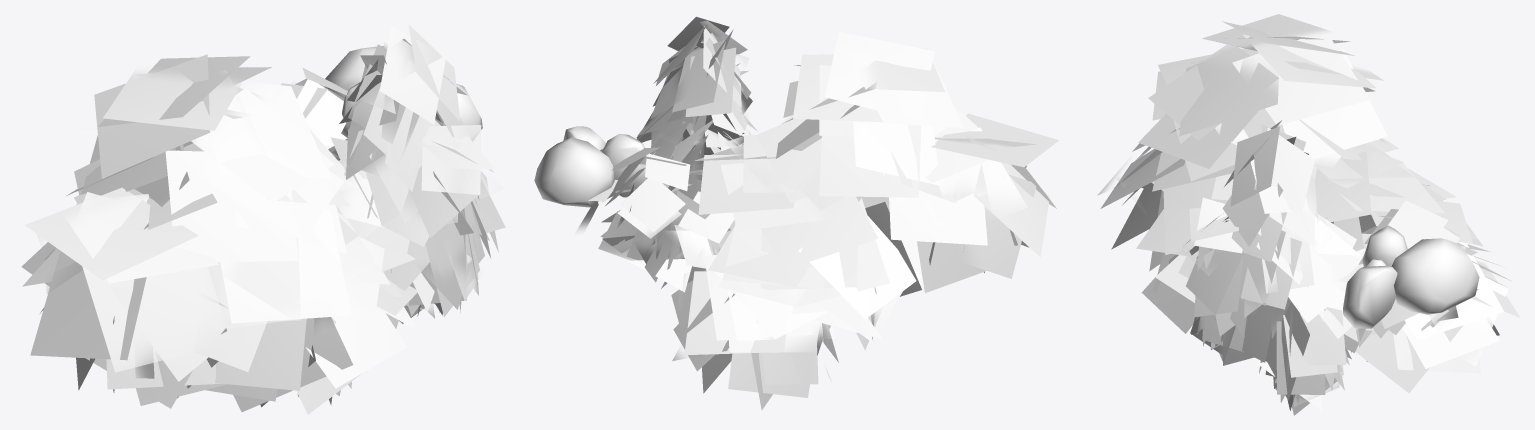
File: ArenaModificadoMesh.glb
3 views of the same model, side by side, from view 1: azimuth 30°, elevation 25°; view 2: azimuth 150°, elevation 25°; view 3: azimuth 270°, elevation 25° (orthographic). The views are drawn at different scales.
Visible parts, largest first — view 1: SM_Trunk01_Leaves02; view 2: SM_Trunk01_Leaves02; view 3: SM_Trunk01_Leaves02.
Boxes of the visible parts, box(x1,y1,x2,y2) form: SM_Trunk01_Leaves02: box(21, 25, 505, 414); SM_Trunk01_Leaves02: box(534, 16, 1059, 410); SM_Trunk01_Leaves02: box(1097, 14, 1520, 415).
Bounding box in the file's own units: 29.94 × 21.3 × 24.46.
Materials: 2 (1 with a texture image).
